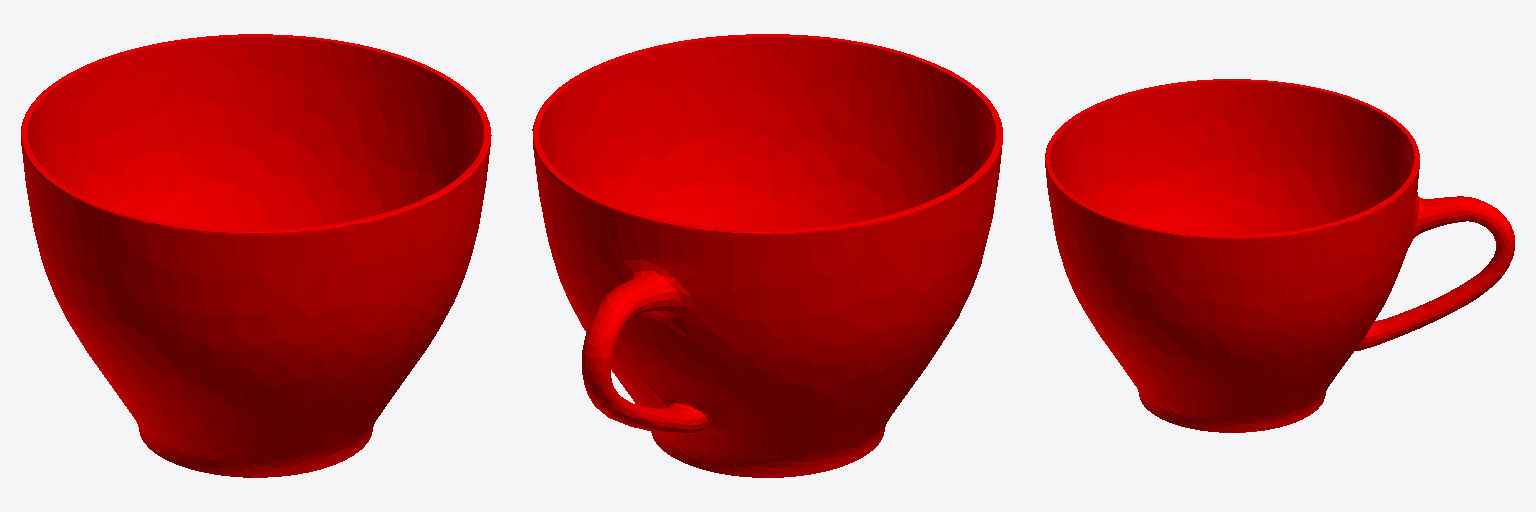
The robot description file, URDF, robot "tea_cup.urdf":
<?xml version="1.0" ?>
<robot name="tea_cup.urdf">
  <link concave="yes" name="baseLink">
    <inertial>
      <origin rpy="0 0 0" xyz="0 0 0.05"/>
       <mass value="1"/>
       <inertia ixx="1" ixy="0" ixz="0" iyy="1" iyz="0" izz="1"/>
    </inertial>
    <visual>
      <origin rpy="1.570796326794896619231 0 1.570796326794896619231" xyz="0 0 0"/>
      <geometry>
        <mesh filename="mug.obj" scale="0.02 0.02 0.02"/>
      </geometry>
      <material name="red">
       <color rgba="1 0 0 1"/>
     </material>
    </visual>
    <collision concave="yes">
      <origin rpy="1.570796326794896619231 0 1.570796326794896619231" xyz="0 0 0"/>
      <geometry>
        <mesh filename="mug.obj" scale="0.02 0.02 0.02"/>
      </geometry>
    </collision>
  </link>
</robot>
        

--- Facts derived from the render (not from the file) ---
3 views of the same robot in one strip: view 1: azimuth 30°, elevation 25°; view 2: azimuth 150°, elevation 25°; view 3: azimuth 270°, elevation 25° (orthographic).
Robot: tea_cup.urdf — 1 links, 0 joints (none); root link baseLink; default pose: every joint at zero.
Links seen in each view (by area): view 1: baseLink; view 2: baseLink; view 3: baseLink.
Link boxes in pixels (left/top/right/bottom): baseLink: left=21, top=34, right=491, bottom=477; baseLink: left=532, top=34, right=1002, bottom=477; baseLink: left=1045, top=79, right=1514, bottom=432.
Bounding box of the posed robot: 0.1452 × 0.1821 × 0.1005 m (x, y, z).
1 mesh visuals loaded from 1 distinct referenced files (1 OBJ).